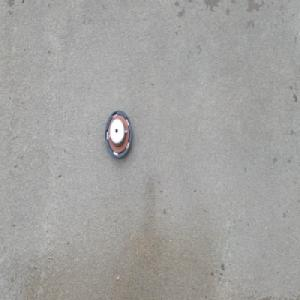FuelCap: (104, 109, 134, 161)
